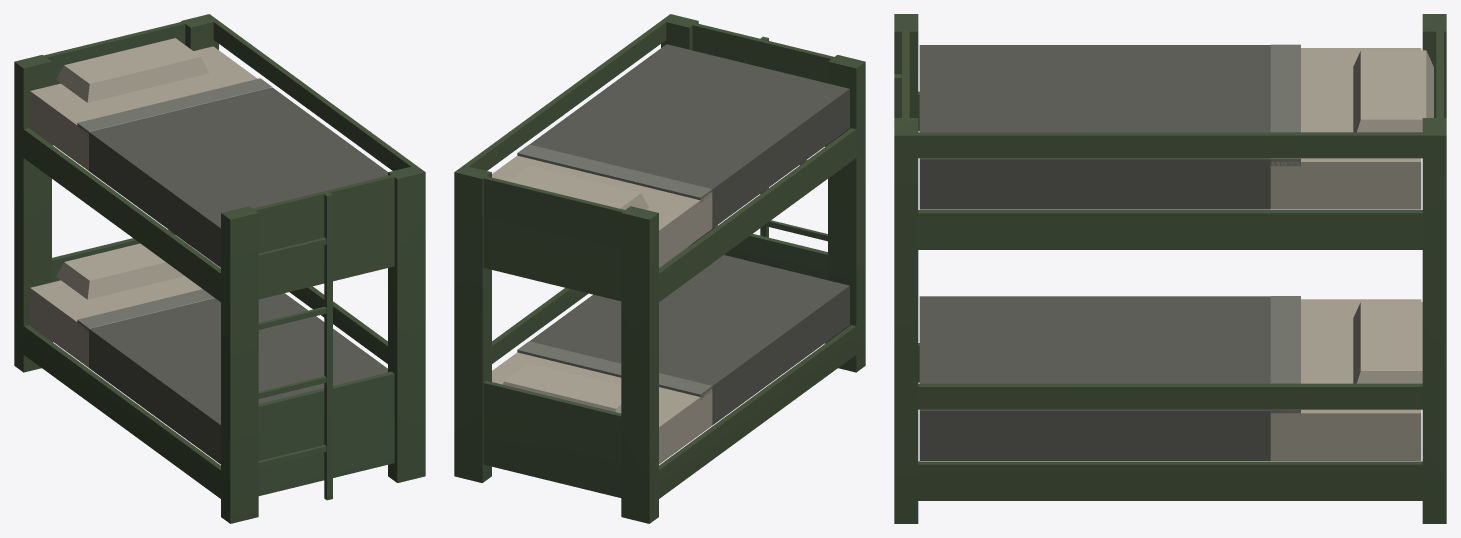
File: bed.bunk.barracks.glb
The picture shows the model from 3 angles, left to right: view 1: azimuth 30°, elevation 25°; view 2: azimuth 150°, elevation 25°; view 3: azimuth 270°, elevation 25°; orthographic projection. The views are drawn at different scales.
Visible parts, largest first — view 1: bed_bunk_barracks; view 2: bed_bunk_barracks; view 3: bed_bunk_barracks.
Part boxes in pixels (bbox=[...]): bed_bunk_barracks: bbox=[14, 14, 425, 523]; bed_bunk_barracks: bbox=[454, 14, 865, 523]; bed_bunk_barracks: bbox=[894, 14, 1446, 523].
Size of what is drawn, in the model's own units: 1.14 by 1.7 by 2.19.
